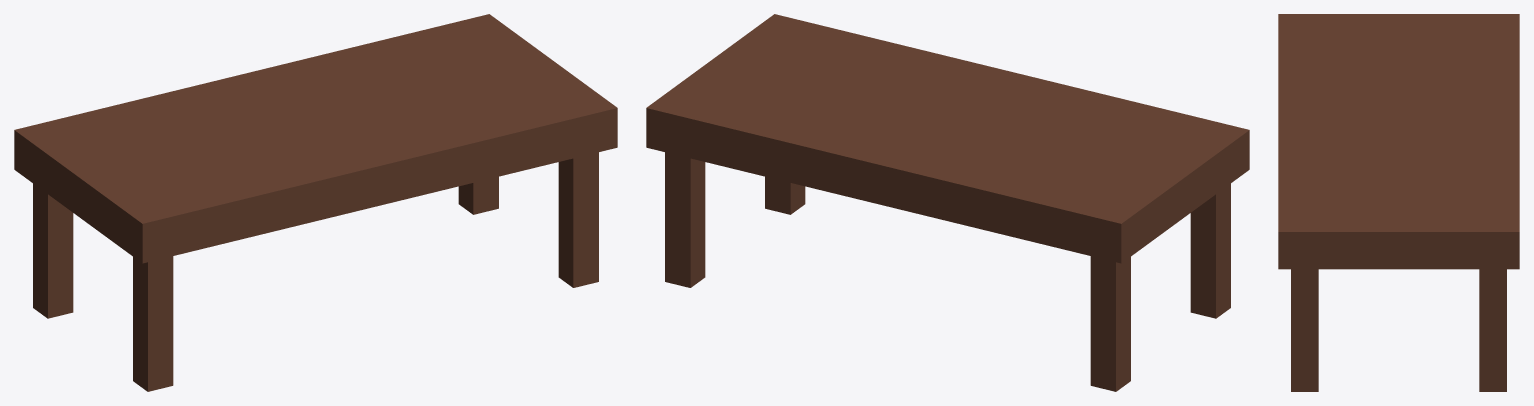
Rendered from Table_Tall02.fbx.
3 views of the same model, side by side, from view 1: azimuth 30°, elevation 25°; view 2: azimuth 150°, elevation 25°; view 3: azimuth 270°, elevation 25° (orthographic). The views are drawn at different scales.
Parts seen in each view (by area): view 1: Table Tal, Cube.001; view 2: Table Tal, Cube.001; view 3: Table Tal, Cube.001.
Part boxes in pixels (bbox=[...]): Table Tal: bbox=[14, 14, 617, 263]; Cube.001: bbox=[33, 152, 598, 391]; Table Tal: bbox=[646, 14, 1249, 263]; Cube.001: bbox=[665, 152, 1230, 391]; Table Tal: bbox=[1278, 14, 1519, 269]; Cube.001: bbox=[1291, 269, 1506, 391].
Bounding box in the file's own units: 122 × 43.25 × 57.17.
